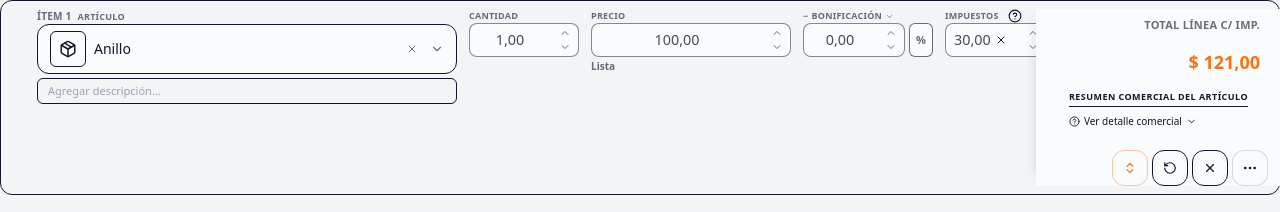
Test: T5 — Card desplegable de Impuestos en Factura de ventas › T11 — override manual: Origen 'Manual' visible al abrir el card
Click the button named "detalle de impuestos": [1015, 16] box [1005, 6, 1025, 26]
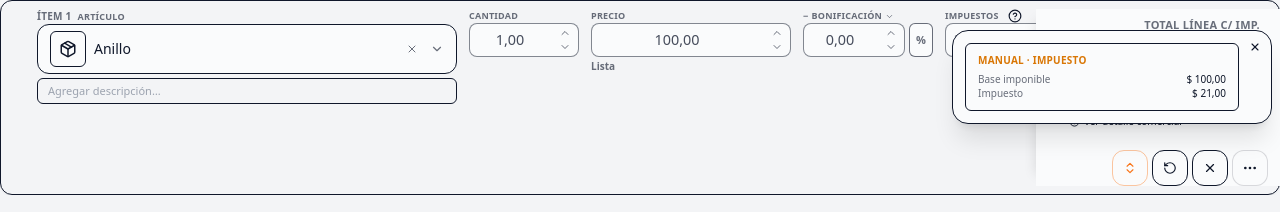
Expected: the element showing "Manual · Impuesto Base imponible $ 100,00 Impuesto $ 21,00" is shown, [965, 43, 1239, 110]
